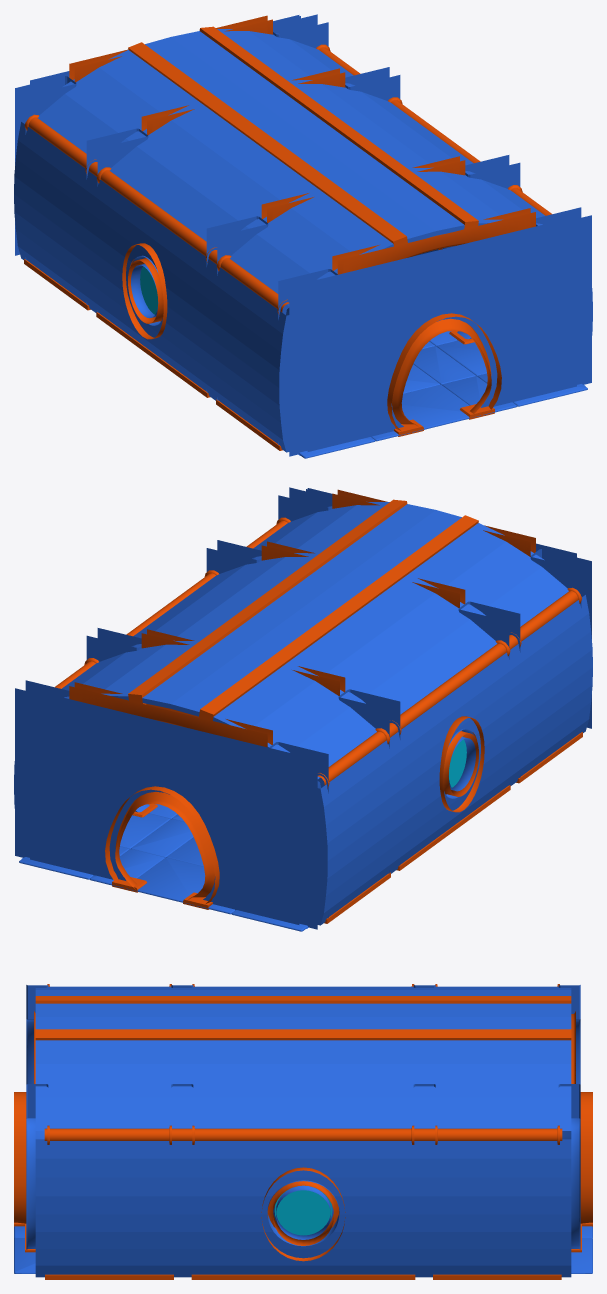
File: SpaceShip_Blocking.fbx
3 renders of one model, top to bottom at view 1: azimuth 30°, elevation 25°; view 2: azimuth 150°, elevation 25°; view 3: azimuth 270°, elevation 25°, orthographic.
Visible parts, largest first — view 1: Wall.006, DoorWall, Pillar.001, VerticalBeam, Tile_Big.009, Pillar, Pipe.014, HorizontalBeam.003, DoorBorder, Cube, Window.004, Pipe.012 (+5 smaller); view 2: Wall.006, DoorWall, Pillar.001, VerticalBeam, Tile_Big.009, Pillar, Pipe.014, DoorBorder, HorizontalBeam.002, Cube, Window.004, Pipe.012 (+5 smaller); view 3: Wall.006, VerticalBeam, Pipe.012, Pillar.001, DoorBorder, Cube, Window_Glass, Window, Tile_Big.009, Window.003.
Boxes of the visible parts, x1,y1,x2,y2 form: Wall.006: (14,29,592,455); DoorWall: (30,15,576,451); Pillar.001: (15,14,591,456); VerticalBeam: (128,26,478,246); Tile_Big.009: (299,331,587,458); Pillar: (86,67,520,400); Pipe.014: (24,114,289,314); HorizontalBeam.003: (332,208,535,274); DoorBorder: (387,313,501,431); Cube: (24,259,494,450); Window.004: (122,243,167,339); Pipe.012: (316,44,552,215); Wall.006: (14,501,592,928); DoorWall: (30,488,576,924); Pillar.001: (15,487,591,929); VerticalBeam: (128,499,478,720); Tile_Big.009: (19,804,307,931); Pillar: (86,540,520,873); Pipe.014: (317,587,581,788); DoorBorder: (105,786,219,903); HorizontalBeam.002: (69,682,272,747); Cube: (112,732,582,923); Window.004: (439,716,484,812); Pipe.012: (55,517,290,688); Wall.006: (22,986,584,1277); VerticalBeam: (35,996,571,1040); Pipe.012: (44,1125,562,1144); Pillar.001: (26,985,580,1249); DoorBorder: (14,1092,592,1223); Cube: (14,1222,592,1279); Window_Glass: (274,1188,332,1235); Window: (261,1167,345,1261); Tile_Big.009: (14,1226,592,1273); Window.003: (267,1180,339,1246).
Size of the model in its own units: 1808 by 1296 by 2801.
